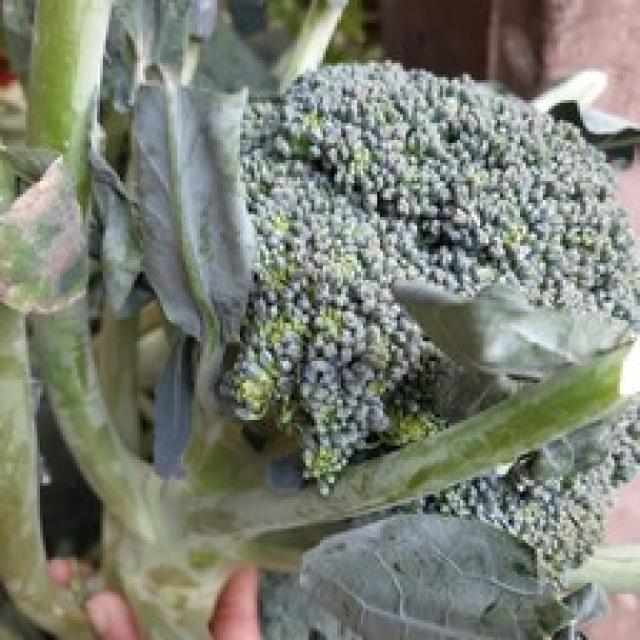Broccoli: (225, 64, 640, 492), (226, 64, 640, 491), (415, 404, 640, 597), (420, 404, 640, 597)
